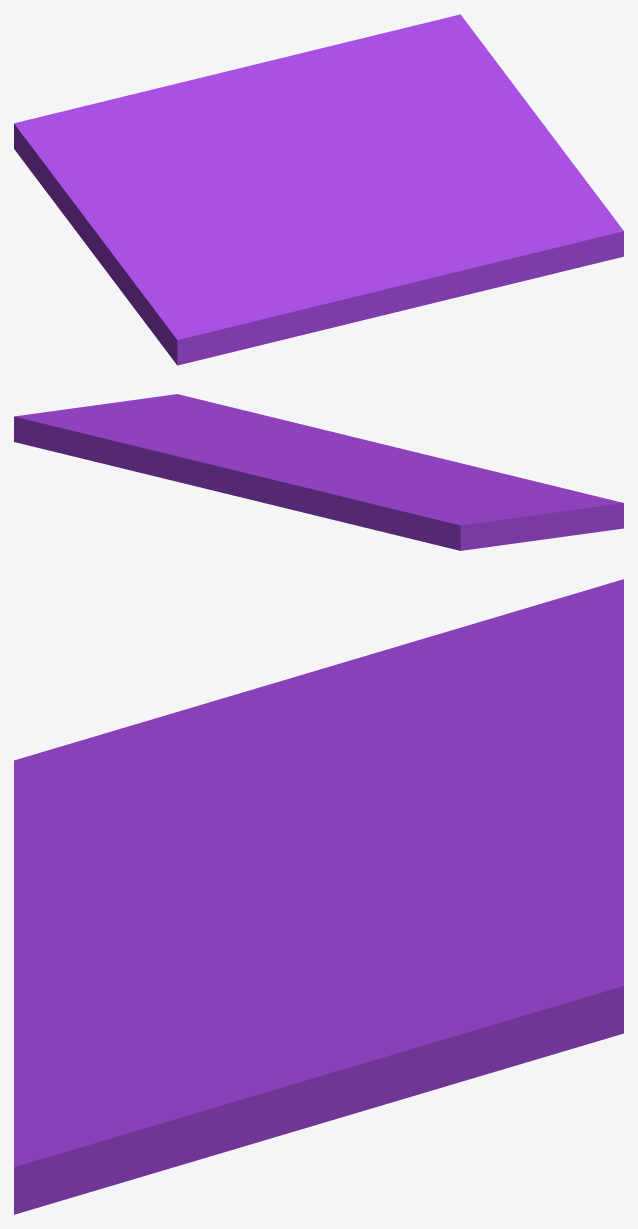
Rendered from Window_158_chunks.fbx.
3 renders of one model, top to bottom at view 1: azimuth 30°, elevation 25°; view 2: azimuth 150°, elevation 25°; view 3: azimuth 270°, elevation 25°, orthographic. The views are drawn at different scales.
Visible parts, largest first — view 1: Window_158_1, Window_158_2, Window_158_3, Window_158_5, Window_158_4, Window_158_6; view 2: Window_158_1, Window_158_2, Window_158_3, Window_158_5, Window_158_4, Window_158_6; view 3: Window_158_2, Window_158_1, Window_158_3, Window_158_5, Window_158_4, Window_158_6.
Boxes of the visible parts, x1,y1,x2,y2 form: Window_158_1: (14, 75, 319, 365); Window_158_2: (211, 14, 590, 187); Window_158_3: (212, 180, 412, 356); Window_158_5: (396, 203, 623, 311); Window_158_4: (357, 181, 602, 219); Window_158_6: (395, 207, 463, 253); Window_158_1: (259, 460, 623, 550); Window_158_2: (14, 398, 322, 501); Window_158_3: (298, 443, 580, 492); Window_158_5: (157, 394, 395, 447); Window_158_4: (145, 397, 304, 451); Window_158_6: (274, 430, 350, 444); Window_158_2: (137, 759, 623, 1172); Window_158_1: (14, 579, 623, 874); Window_158_3: (14, 799, 309, 971); Window_158_5: (14, 967, 133, 1214); Window_158_4: (92, 909, 286, 1185); Window_158_6: (83, 948, 202, 1015).
Size of the model in its own units: 1838 by 482 by 1165.
